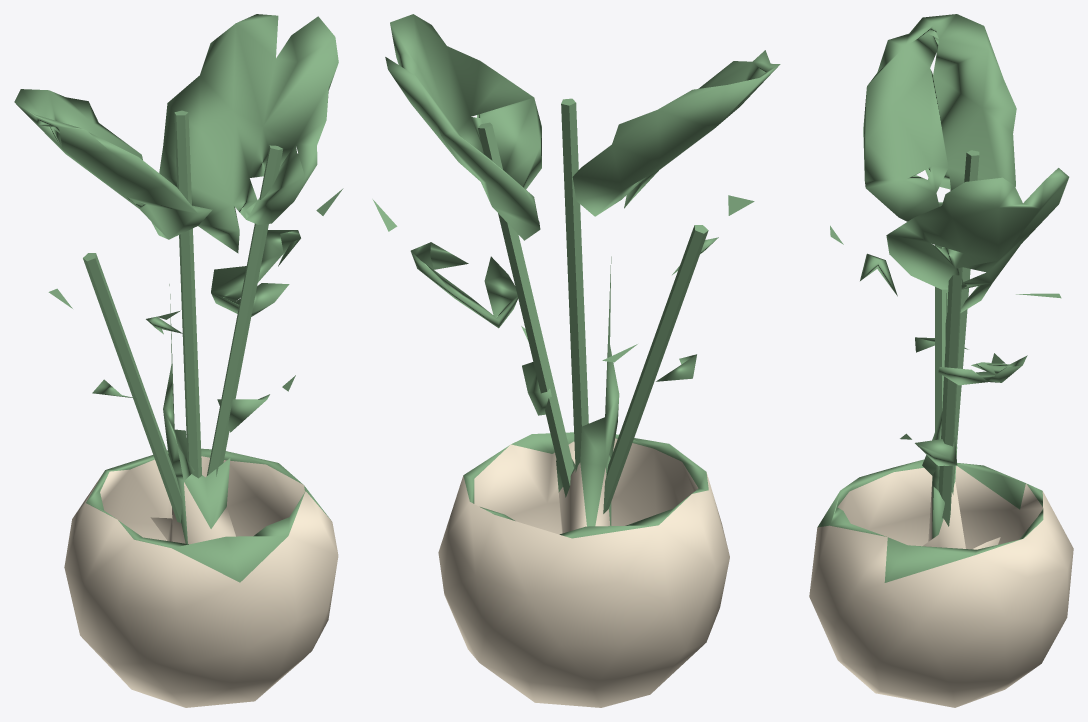
3 renders of one model, left to right at view 1: azimuth 30°, elevation 25°; view 2: azimuth 150°, elevation 25°; view 3: azimuth 270°, elevation 25°, orthographic. The views are drawn at different scales.
Parts seen in each view (by area): view 1: 넓은 잎 화분, Reinforced branch.002, Reinforced branch.001, Reinforced branch; view 2: 넓은 잎 화분, Reinforced branch.002, Reinforced branch.001, Reinforced branch; view 3: 넓은 잎 화분, Reinforced branch.001, Reinforced branch.002, Reinforced branch.
Boxes of the visible parts, x1=… form: 넓은 잎 화분: x1=14, y1=14, x2=343, y2=707; Reinforced branch.002: x1=174, y1=110, x2=201, y2=478; Reinforced branch.001: x1=207, y1=145, x2=282, y2=476; Reinforced branch: x1=83, y1=253, x2=182, y2=522; 넓은 잎 화분: x1=372, y1=14, x2=780, y2=707; Reinforced branch.002: x1=561, y1=98, x2=588, y2=472; Reinforced branch.001: x1=478, y1=122, x2=573, y2=497; Reinforced branch: x1=603, y1=225, x2=708, y2=513; 넓은 잎 화분: x1=809, y1=14, x2=1073, y2=707; Reinforced branch.001: x1=938, y1=267, x2=962, y2=526; Reinforced branch.002: x1=951, y1=150, x2=979, y2=494; Reinforced branch: x1=935, y1=202, x2=948, y2=431.
Bounding box in the file's own units: 48.5 × 81.8 × 33.38.
